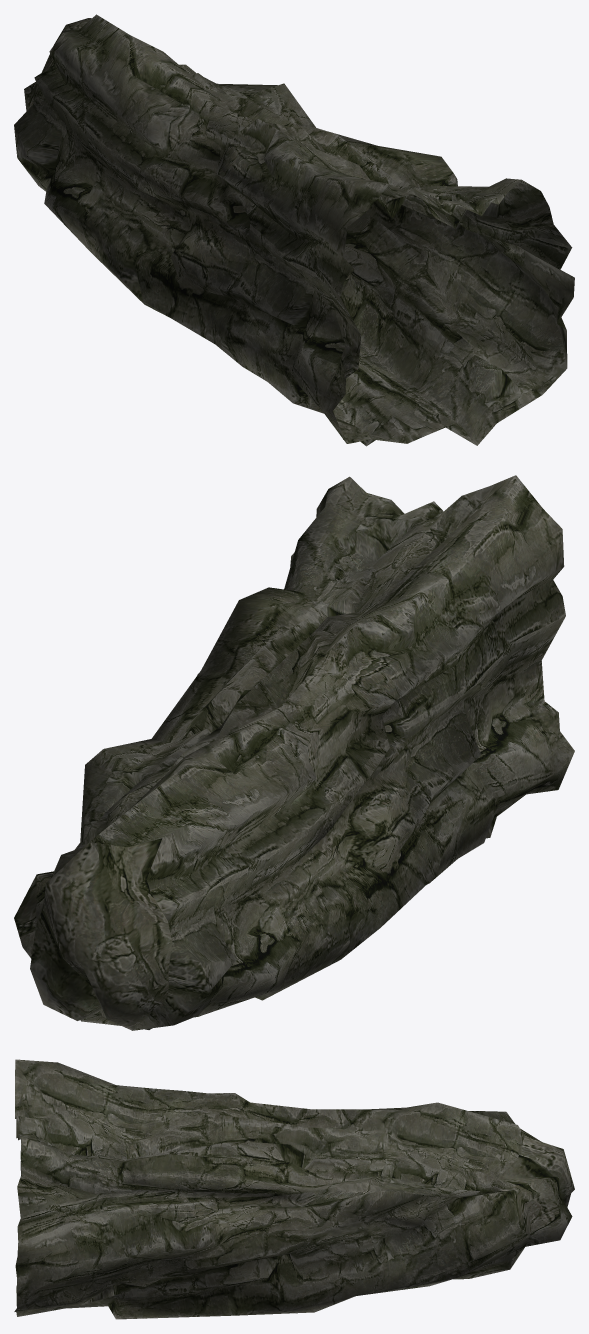
Rendered from TI_CLiff_02_a_LOD_01.fbx.
The picture shows the model from 3 angles, top to bottom: view 1: azimuth 30°, elevation 25°; view 2: azimuth 150°, elevation 25°; view 3: azimuth 270°, elevation 25°; orthographic projection. The views are drawn at different scales.
Visible parts, largest first — view 1: TI_CLiff_02_a_LOD_01; view 2: TI_CLiff_02_a_LOD_01; view 3: TI_CLiff_02_a_LOD_01.
Part boxes in pixels (x1=…): TI_CLiff_02_a_LOD_01: x1=14, y1=14, x2=574, y2=446; TI_CLiff_02_a_LOD_01: x1=14, y1=475, x2=574, y2=1030; TI_CLiff_02_a_LOD_01: x1=14, y1=1059, x2=574, y2=1319.
Bounding box in the file's own units: 5.48 × 5.88 × 13.08.
